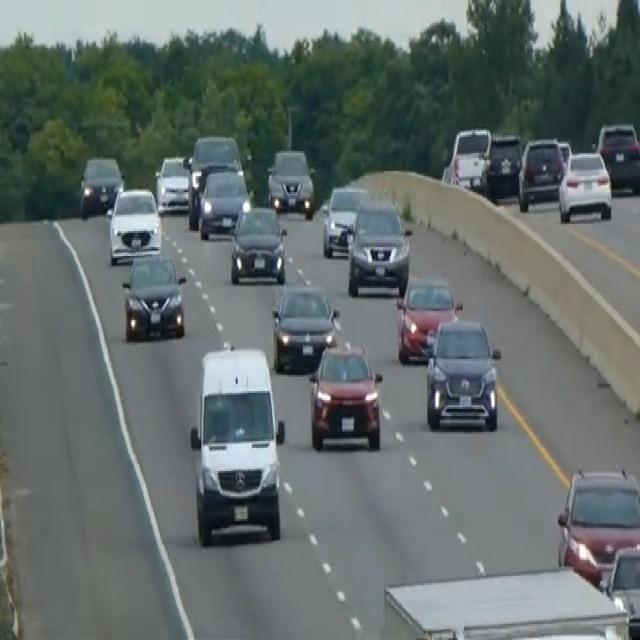car: (381, 562, 632, 638), (556, 464, 639, 587), (424, 316, 501, 431), (308, 338, 383, 452), (346, 195, 411, 297), (271, 281, 340, 373), (395, 272, 462, 363), (121, 249, 186, 341), (186, 132, 244, 226), (229, 201, 287, 284), (106, 185, 161, 263), (557, 148, 613, 222), (197, 165, 249, 240), (601, 539, 639, 638), (517, 135, 564, 212), (321, 181, 368, 258), (266, 146, 315, 218), (596, 119, 639, 194), (448, 124, 491, 190), (78, 153, 122, 217), (483, 130, 522, 201), (154, 151, 191, 213), (556, 137, 573, 169)
minibus: (187, 341, 287, 546)
